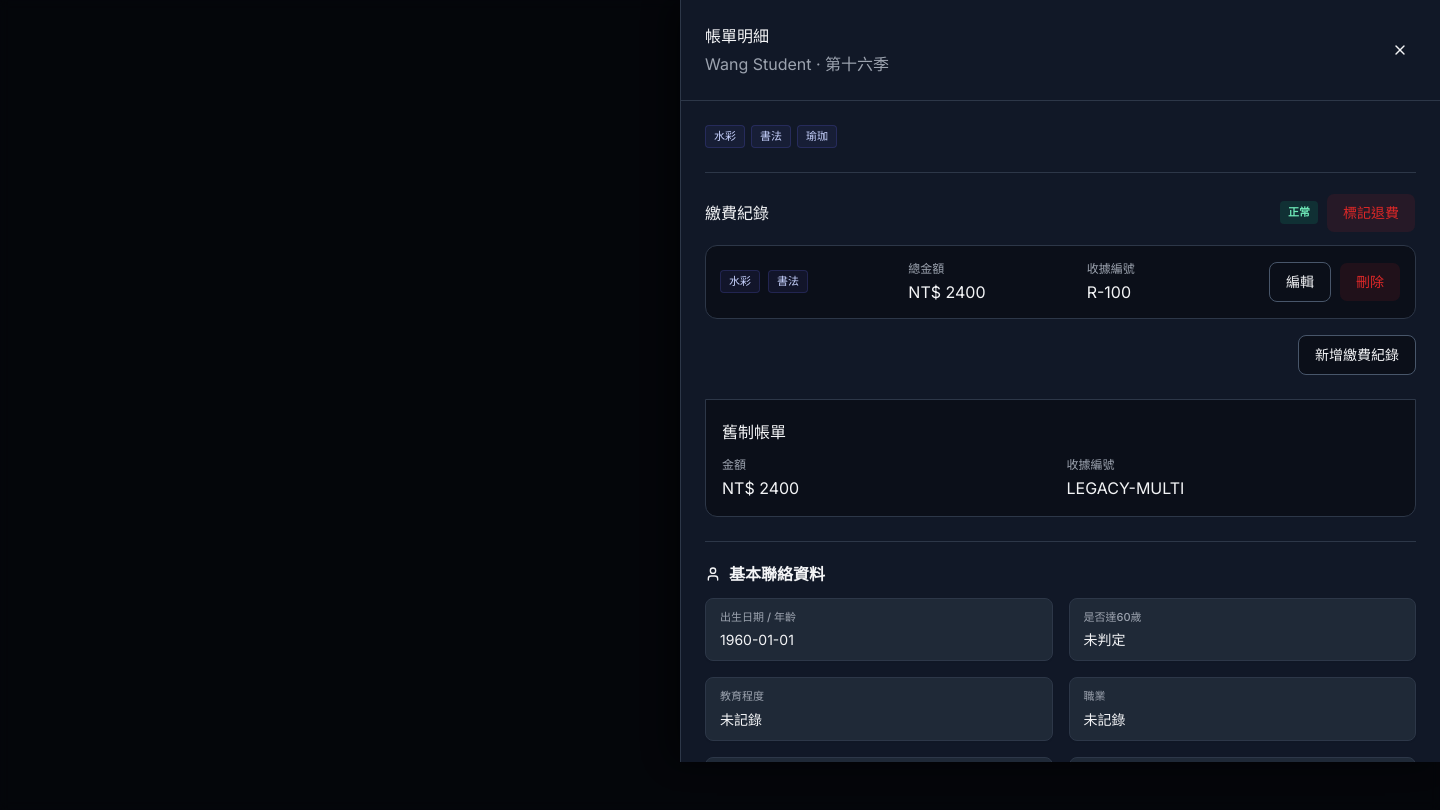
Test: EnrollmentBillingDetailModal › keeps selected courses and values when saving fails
Click the button "新增繳費紀錄": click(1357, 354) [1298,334,1416,374]
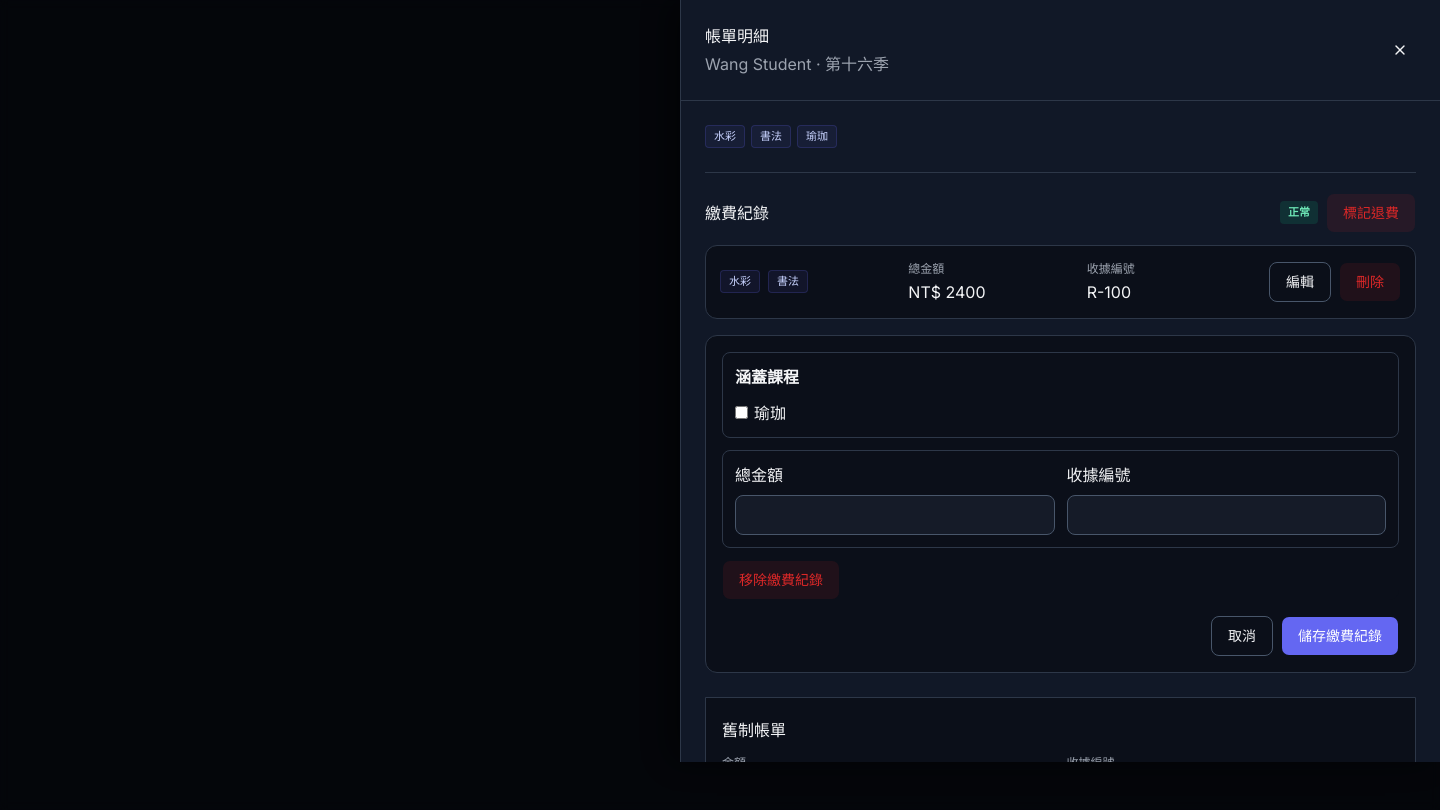
Click the checkbox labelled "瑜珈": click(742, 412) [735,406,748,419]
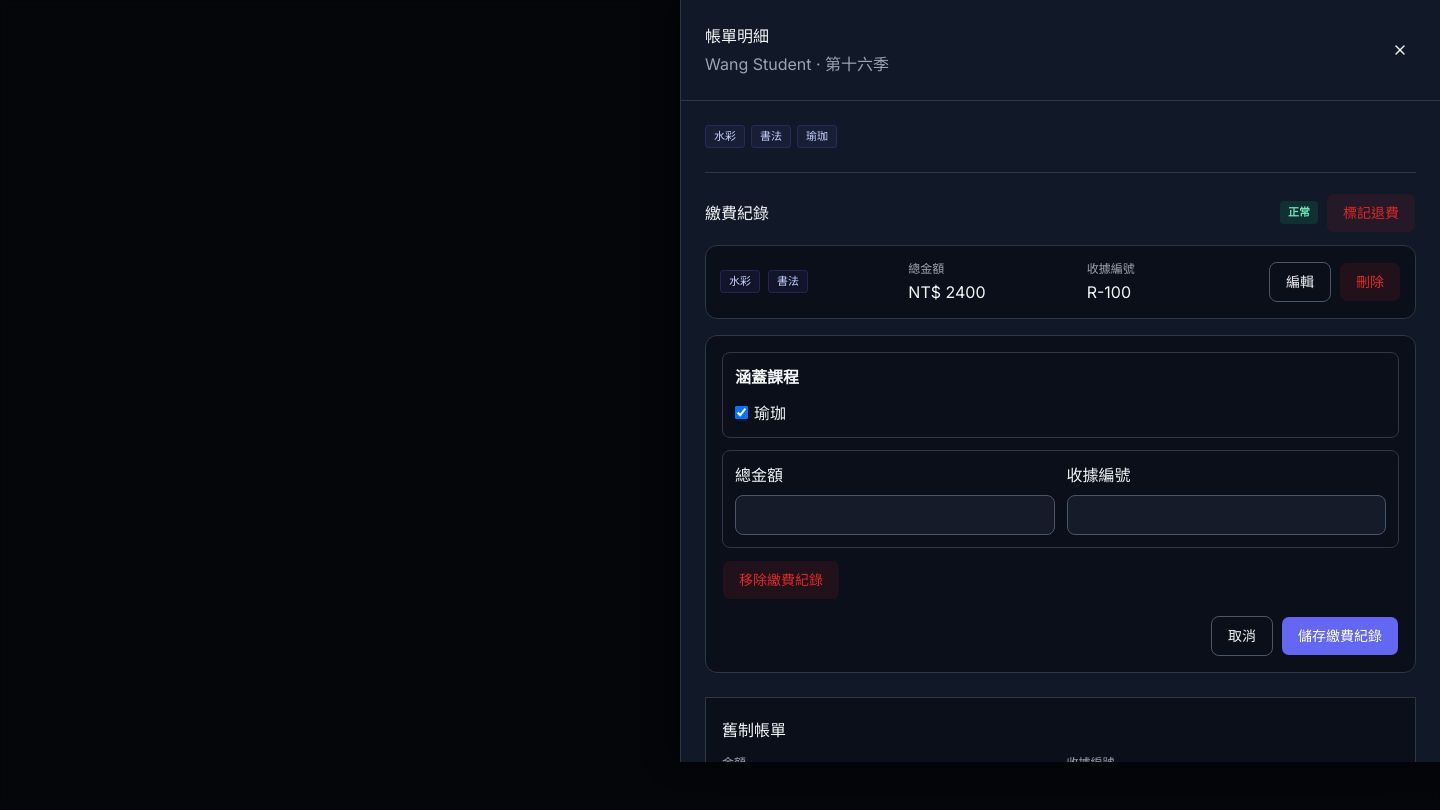
In the number field labelled "總金額": (895, 514) [735,494,1054,534], type "1600"
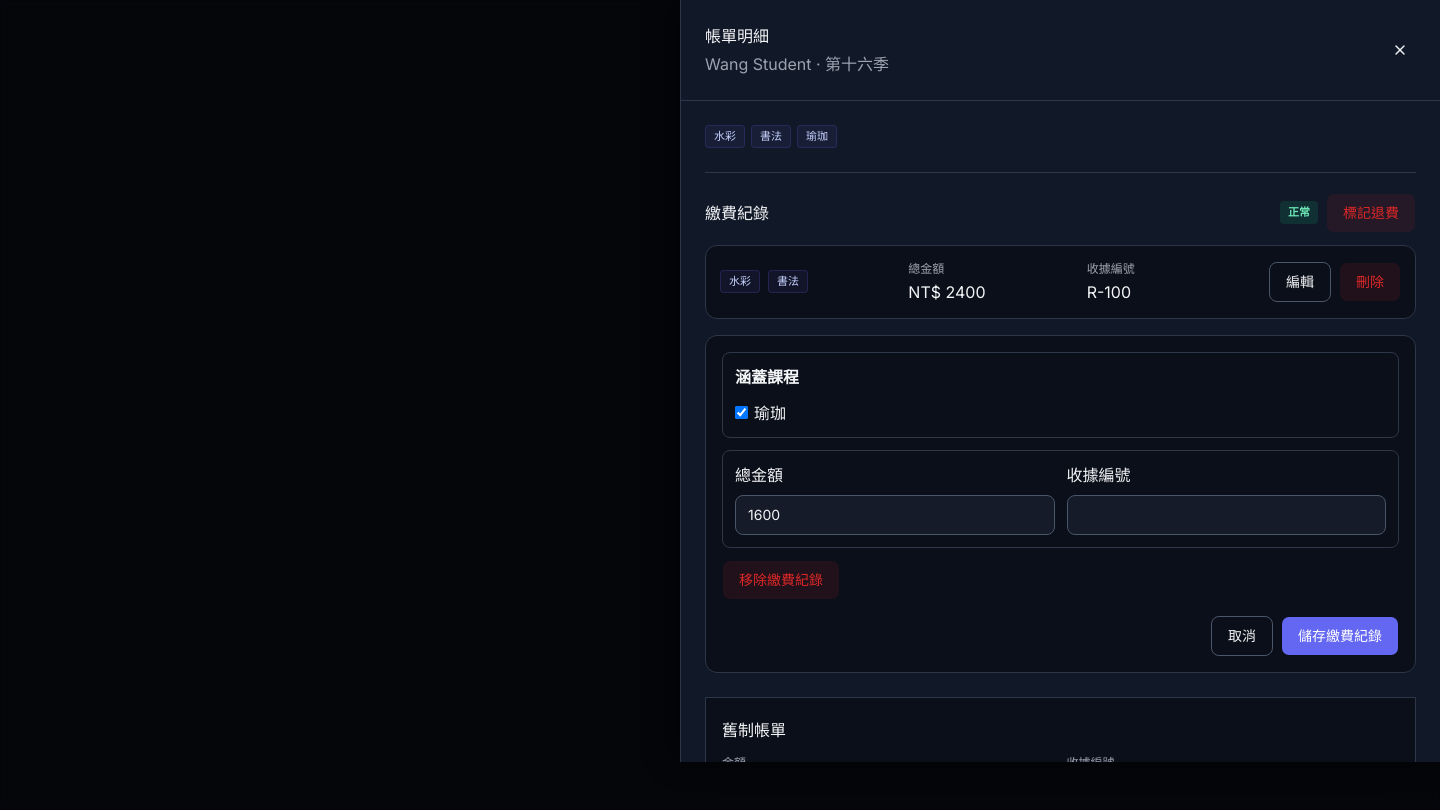
In the field labelled "收據編號": (1226, 514) [1066,494,1386,534], type " R-NEW "
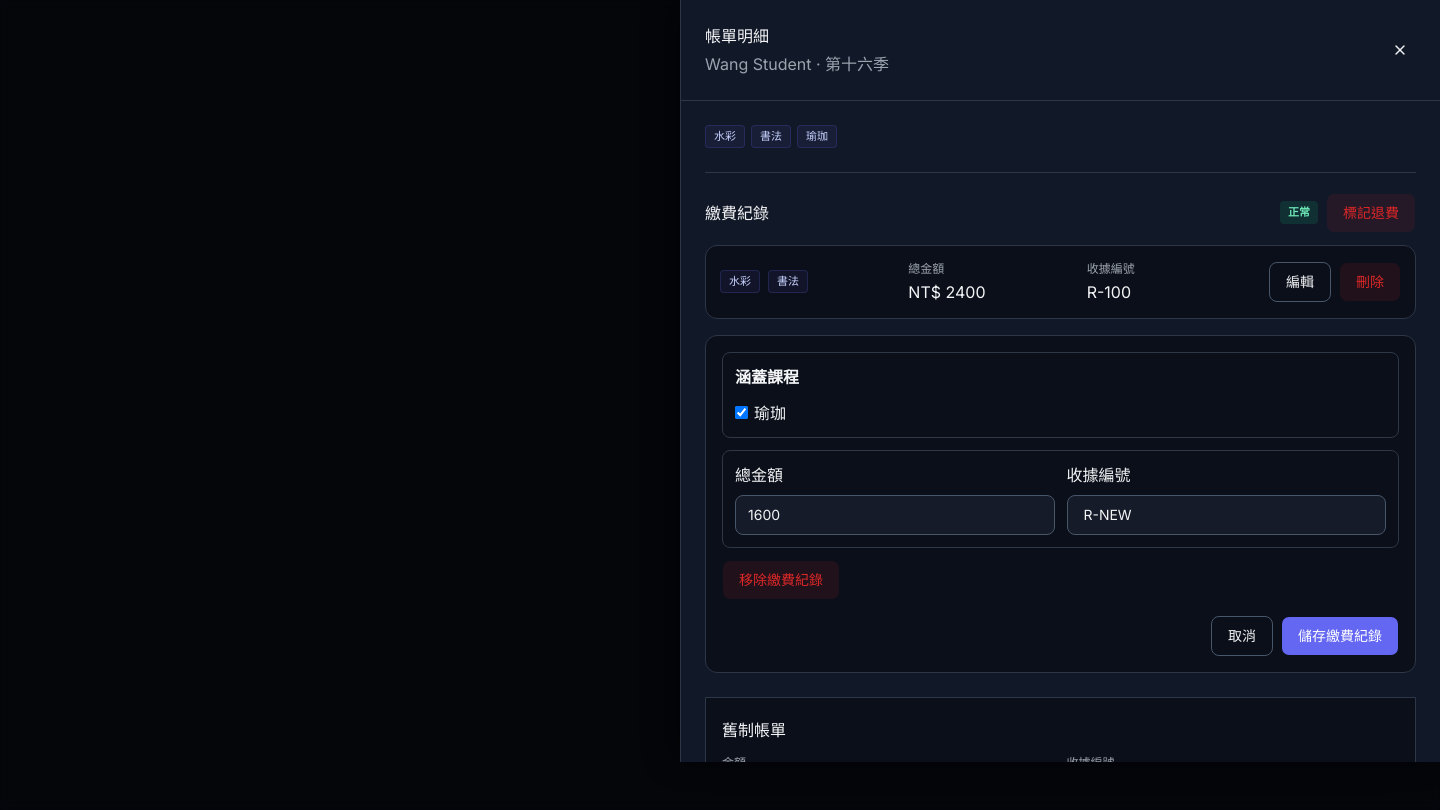
Click the button "儲存繳費紀錄": click(1340, 636) [1281,616,1399,656]
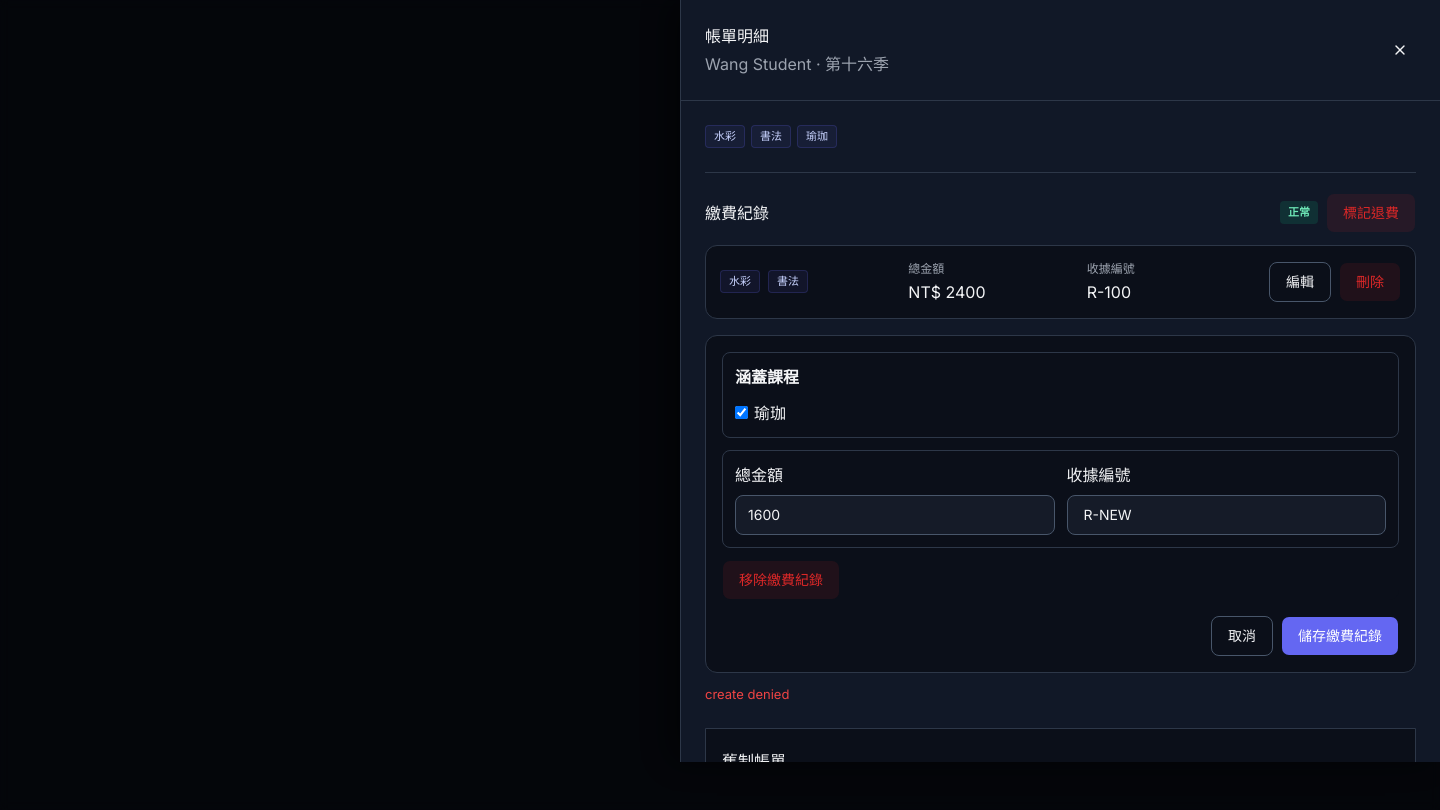
Expected: the checkbox labelled "瑜珈" is checked, [735,406,748,419]
Expected: the message reads "create denied", [705,686,789,702]
